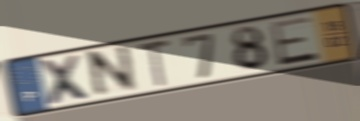7: (181, 30, 219, 81)
8: (229, 24, 271, 73)
E: (268, 14, 321, 68)
N: (88, 42, 139, 101)
T: (135, 37, 173, 90)
X: (37, 52, 96, 107)
